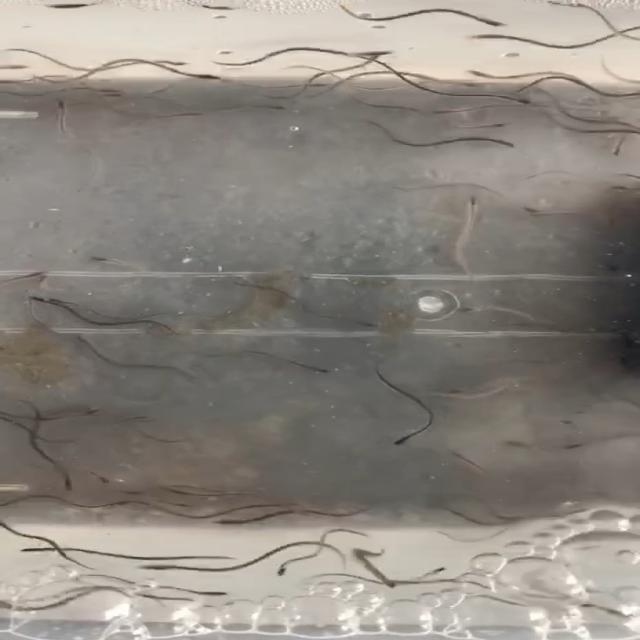active_glass_eel: (472, 120, 530, 160), (115, 404, 167, 432), (178, 66, 233, 90), (438, 291, 489, 316), (182, 581, 236, 603), (86, 465, 131, 491), (103, 494, 153, 517), (346, 313, 399, 333), (353, 43, 413, 60), (418, 108, 471, 127), (376, 428, 416, 452), (72, 251, 144, 264), (492, 87, 533, 109), (23, 265, 64, 287), (29, 290, 72, 310), (70, 329, 104, 353), (52, 470, 87, 493), (452, 192, 482, 218), (207, 513, 248, 532), (469, 16, 524, 30), (2, 60, 50, 76), (140, 564, 182, 582), (478, 113, 517, 132), (435, 380, 472, 400), (15, 544, 61, 560), (303, 356, 333, 379), (466, 30, 499, 50), (266, 568, 302, 586), (368, 576, 404, 594), (77, 406, 116, 422), (54, 98, 98, 111), (101, 83, 129, 102), (63, 433, 88, 453), (445, 77, 482, 90), (590, 178, 618, 194), (599, 142, 618, 164), (264, 98, 286, 116), (180, 104, 202, 122), (468, 65, 490, 80), (422, 563, 446, 575), (522, 198, 535, 220)
